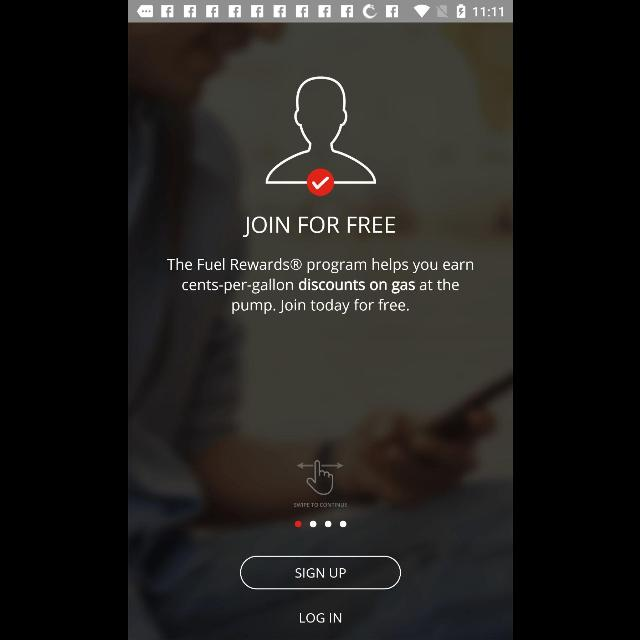backgroundimage: (128, 22, 512, 640)
image: (264, 76, 376, 196), (295, 460, 343, 496)
pageindicator: (294, 520, 346, 528)
text: (165, 257, 472, 315), (241, 215, 395, 237), (298, 612, 340, 624), (291, 502, 347, 508)
textbutton: (239, 556, 401, 590)
uppertaskbar: (128, 1, 512, 23)
